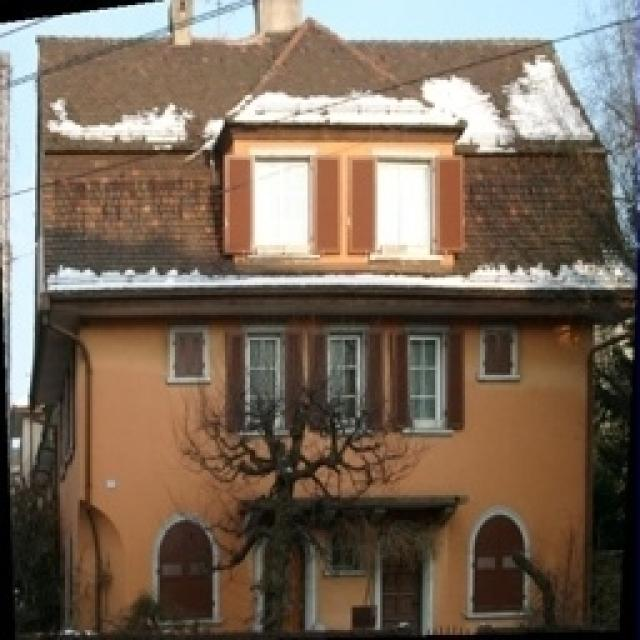building: (35, 15, 620, 640)
